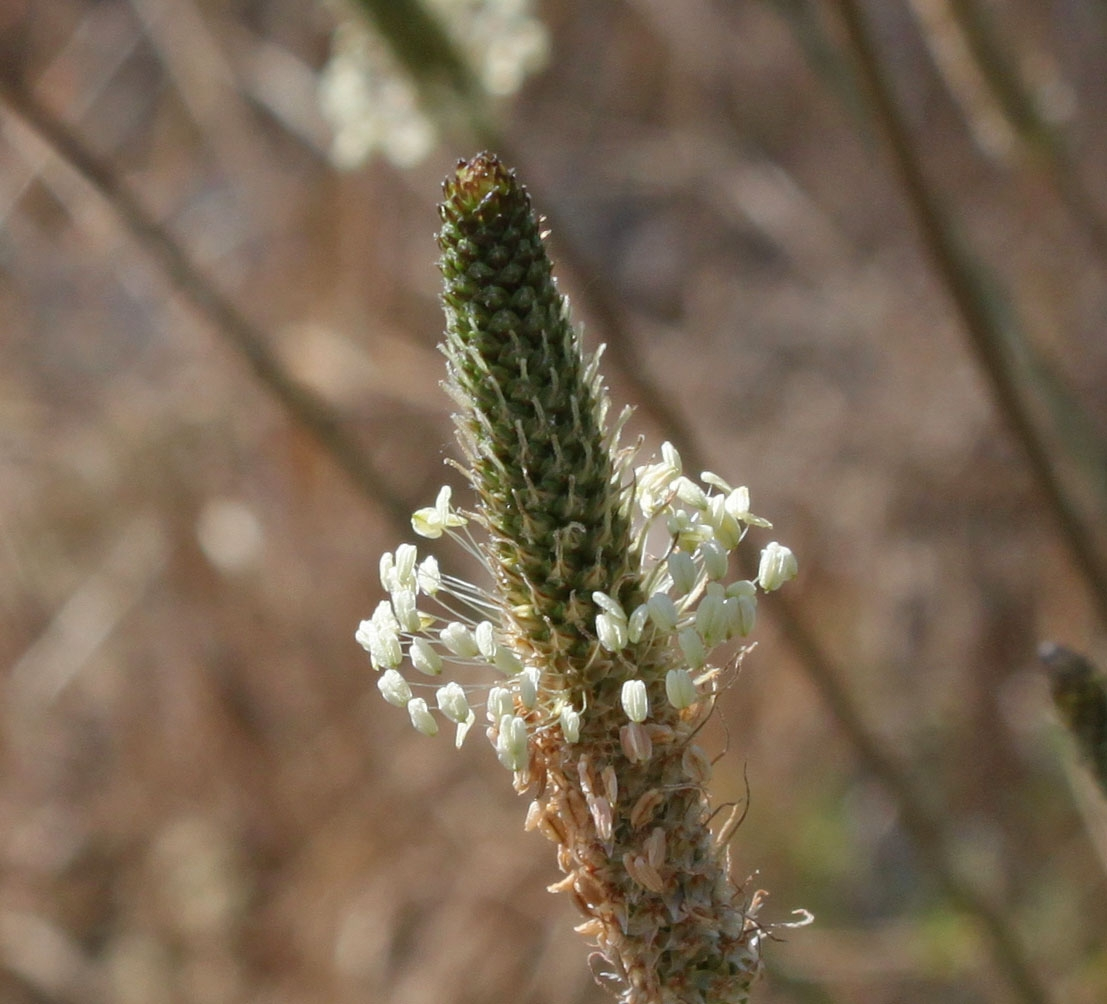buckhorn plantain: (383, 147, 868, 1004)
